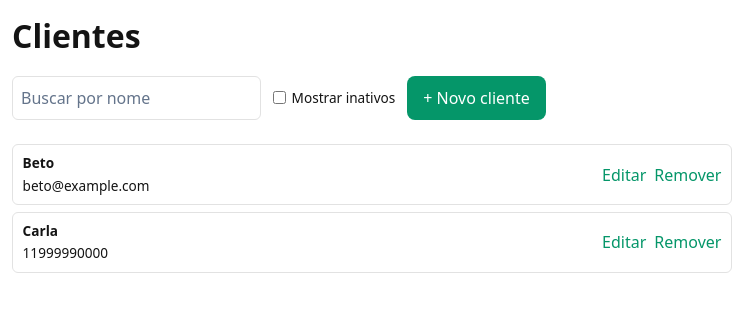
ClientesPage › maps a 409 conflict on removal to a Portuguese message instead of the raw backend text
The image size is (749, 328).
Expected: the text "Carla" is shown, [23, 221, 58, 241]
Click the 1st button "Remover" at (688, 175), box [654, 163, 721, 187]
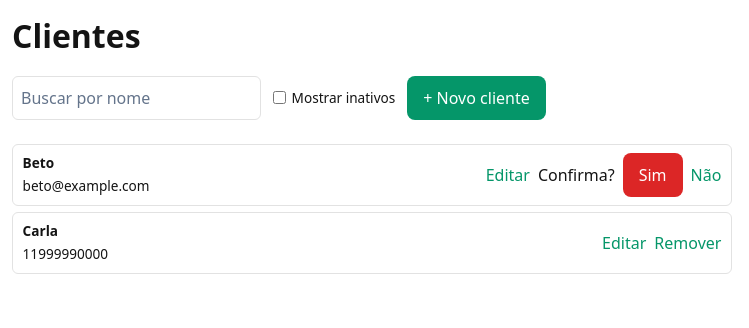
Click the button "Sim" at (653, 175), box [623, 153, 683, 197]
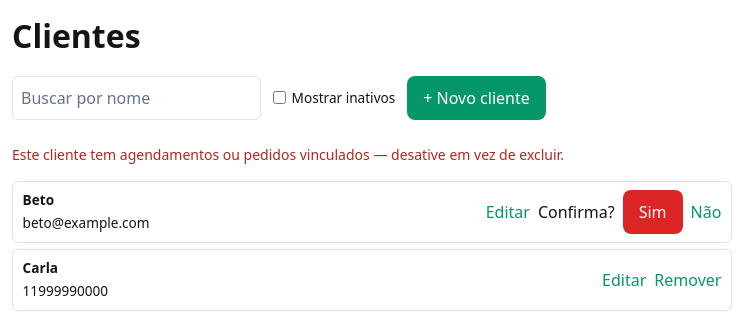
Now the text "Este cliente tem agendamentos ou pedidos vinculados — desative em vez de excluir." is shown, box [12, 145, 564, 164]
